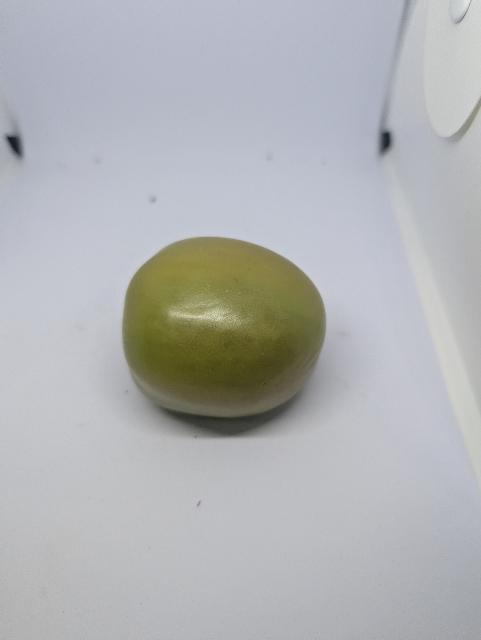green: (118, 223, 337, 433)
